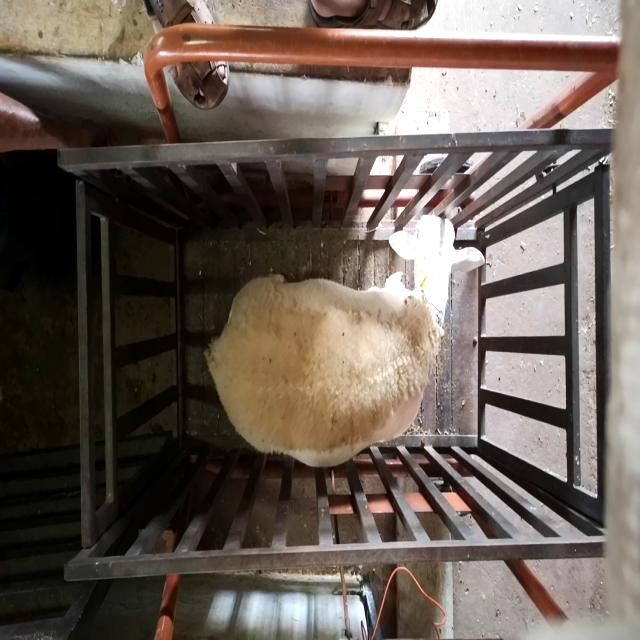sheep: (203, 214, 486, 468)
